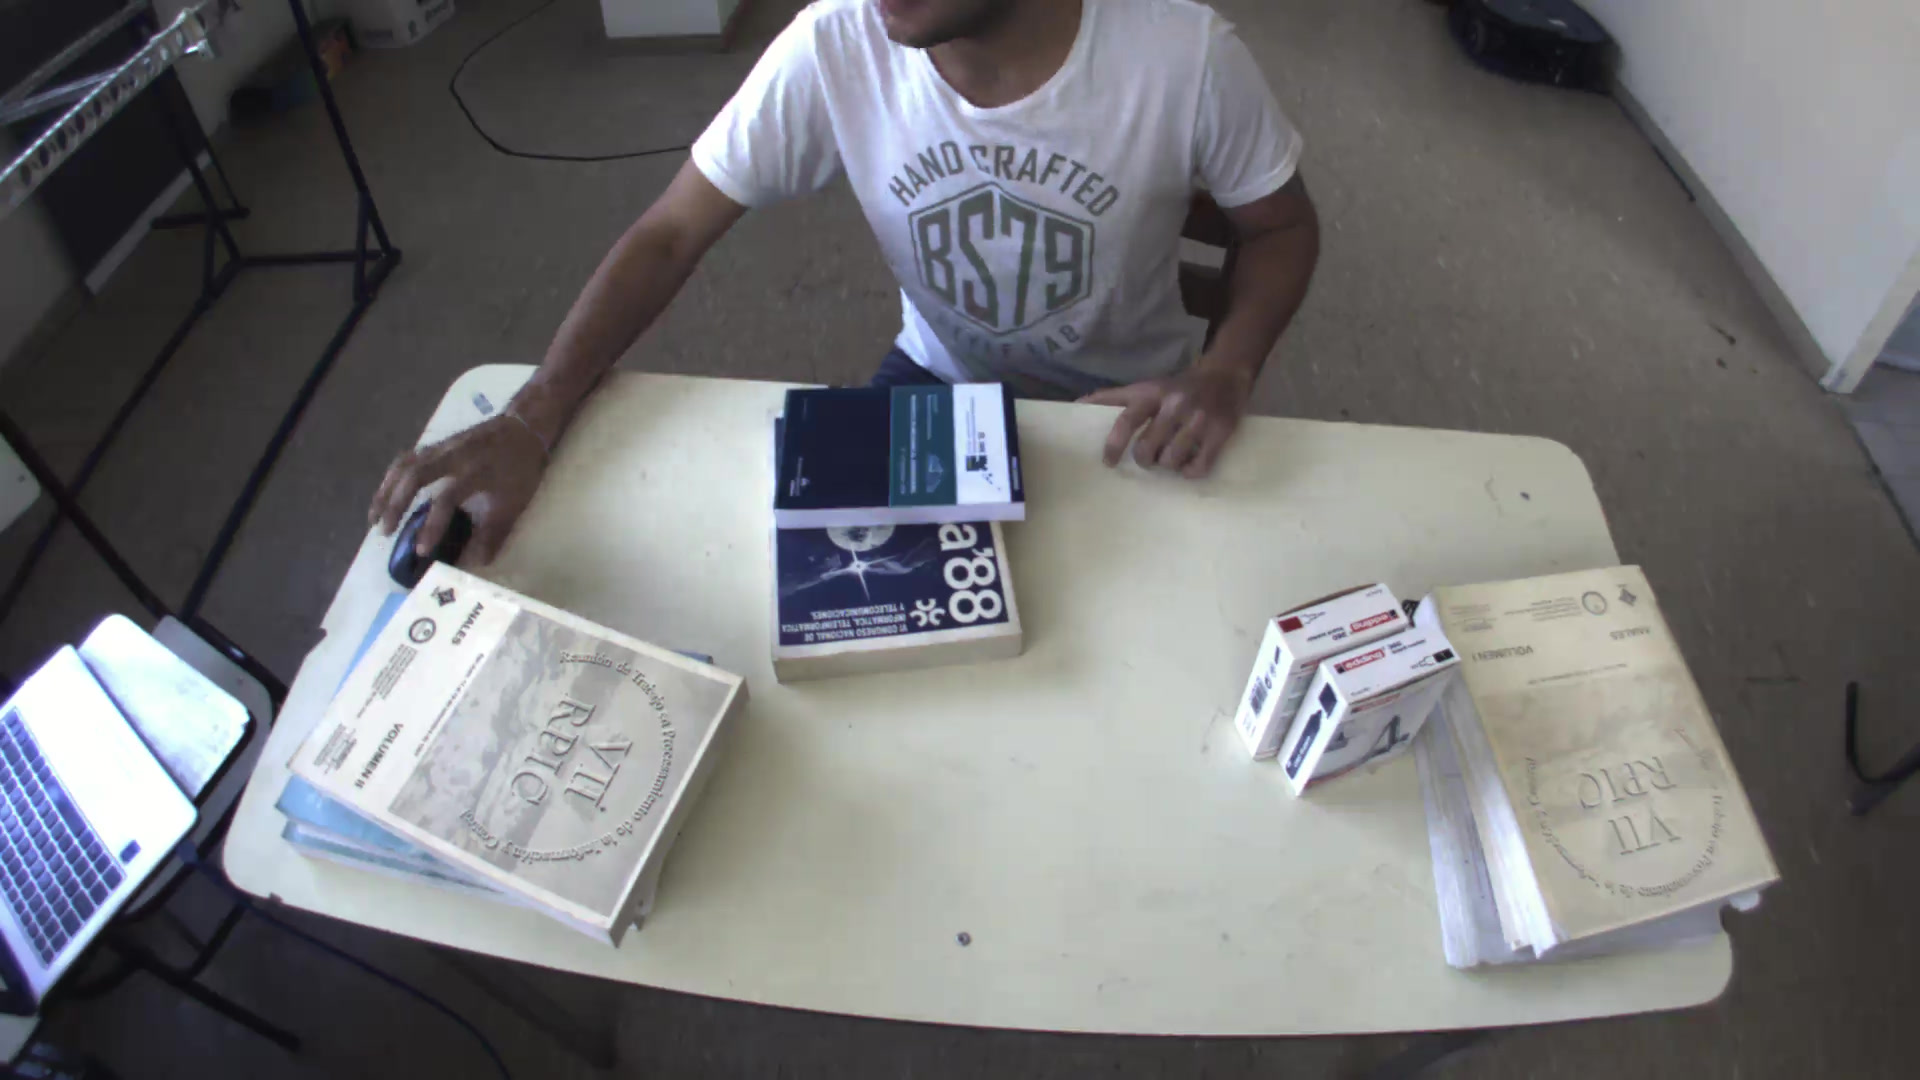hand: (355, 390, 558, 575), (1092, 339, 1262, 483)
